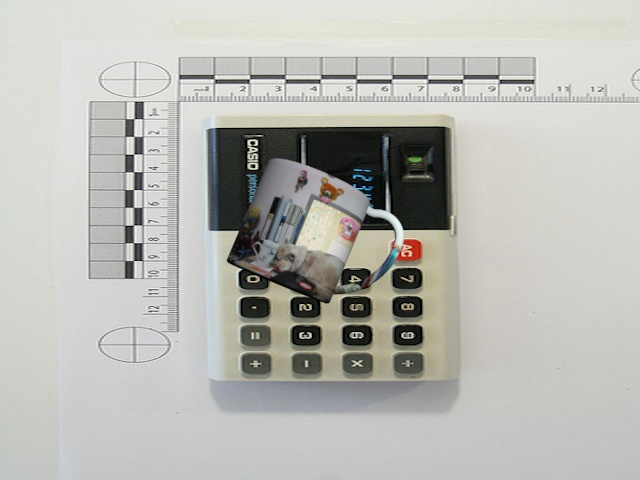mug: (225, 153, 416, 305)
